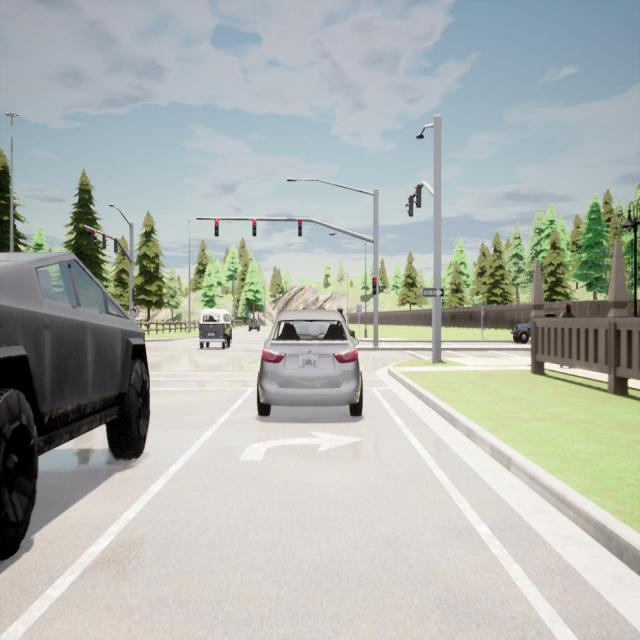Pedestrian: (560, 304, 576, 318)
Traffic_Signs: (424, 289, 444, 297), (130, 306, 138, 317)
Vehicle: (0, 245, 150, 553), (257, 310, 363, 416), (199, 311, 232, 349), (511, 323, 531, 344), (248, 319, 259, 332)
traffic_light: (416, 185, 422, 207), (408, 195, 413, 216), (215, 219, 219, 236), (298, 220, 302, 236), (102, 235, 106, 248), (253, 220, 256, 237), (114, 239, 118, 251), (373, 278, 376, 294), (92, 230, 95, 243)
